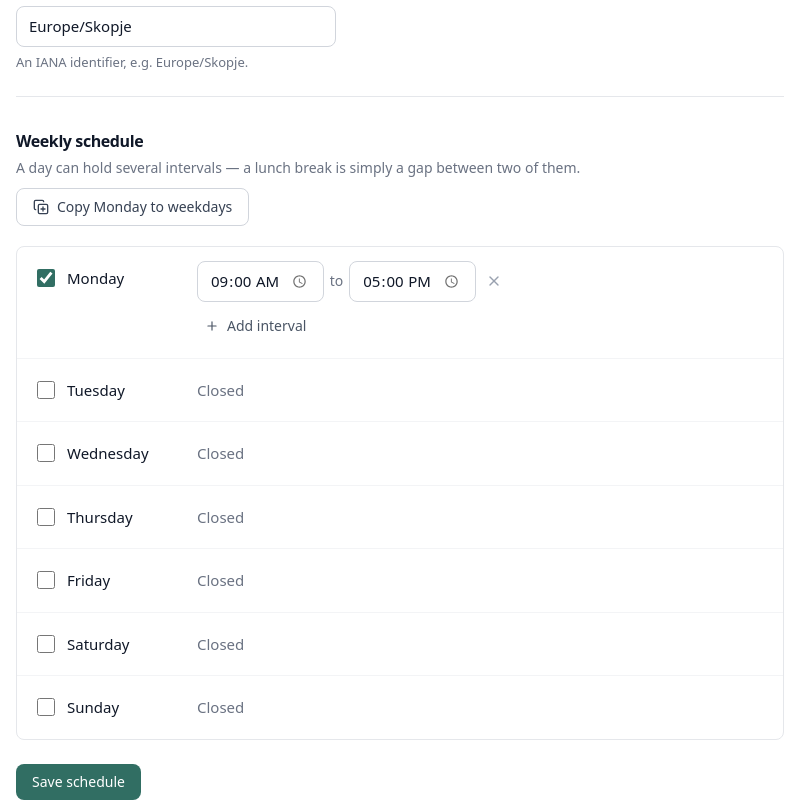
WorkingHoursPage — a successful save › clears the confirmation when the next save fails
The image size is (801, 800).
(page scrolled)
Click the button "Save schedule" at (78, 782), box [16, 764, 141, 799]
(page scrolled)
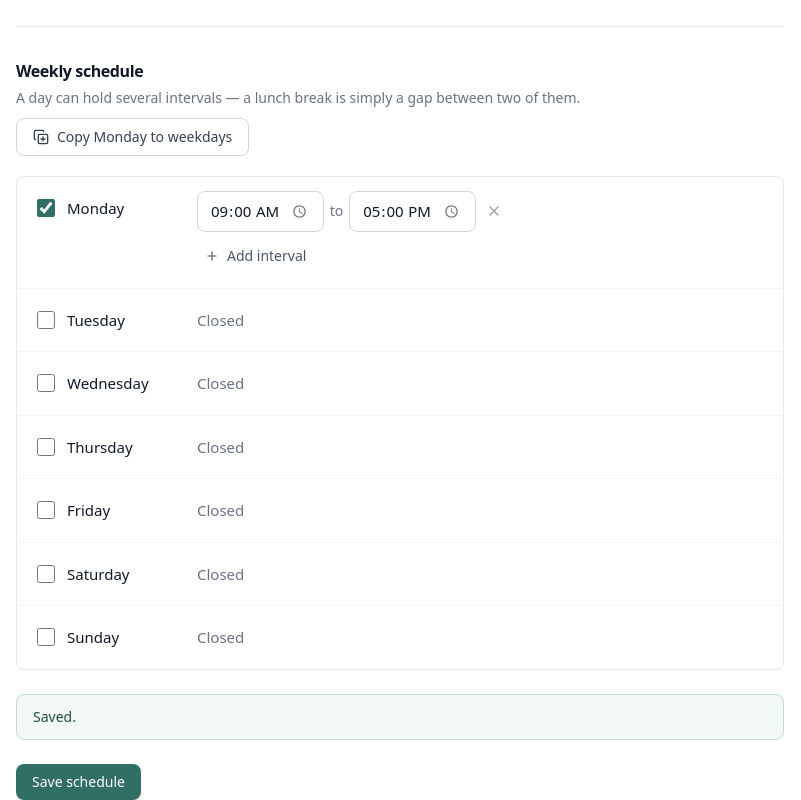
Check: the text "Saved." is shown, box [16, 694, 784, 740]
Click the button "Save schedule" at (78, 782), box [16, 764, 141, 799]
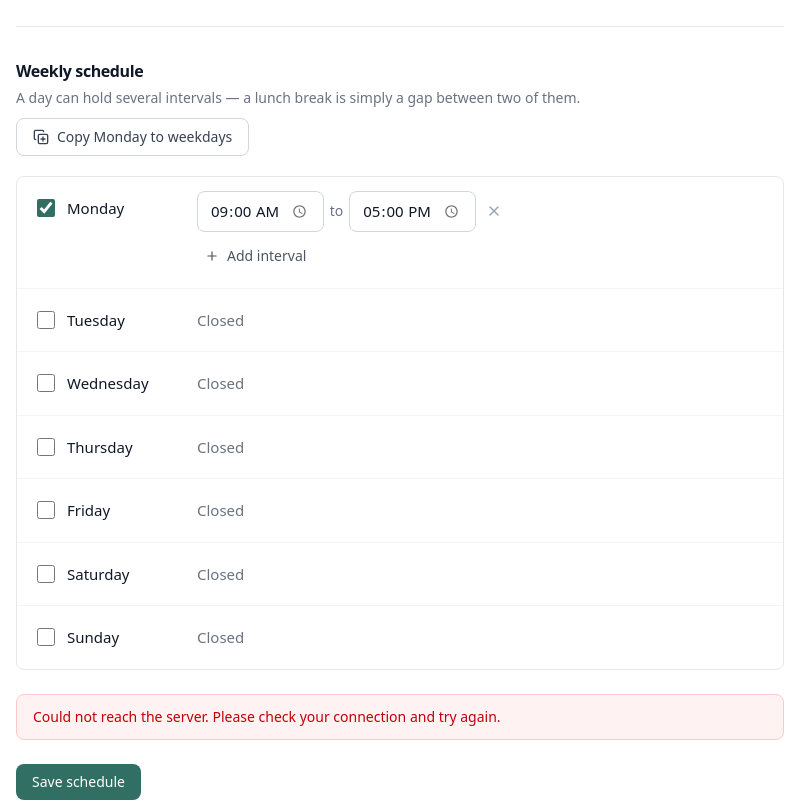
Check: the text "Could not reach the server. Please check your connection and try again." is shown, box [16, 694, 784, 740]
Check: the text "Saved." is gone
